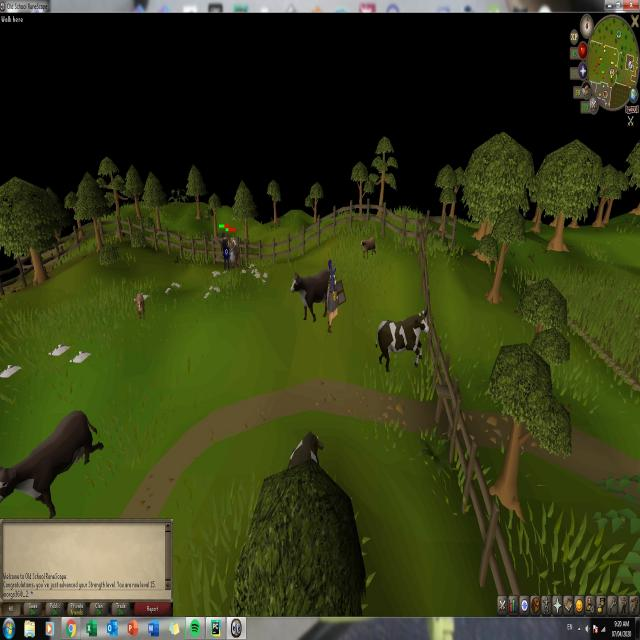cow: (1, 410, 104, 514), (376, 306, 428, 374), (291, 268, 327, 323), (226, 232, 241, 271), (358, 234, 378, 258), (134, 288, 147, 321)
player: (326, 258, 339, 336)
